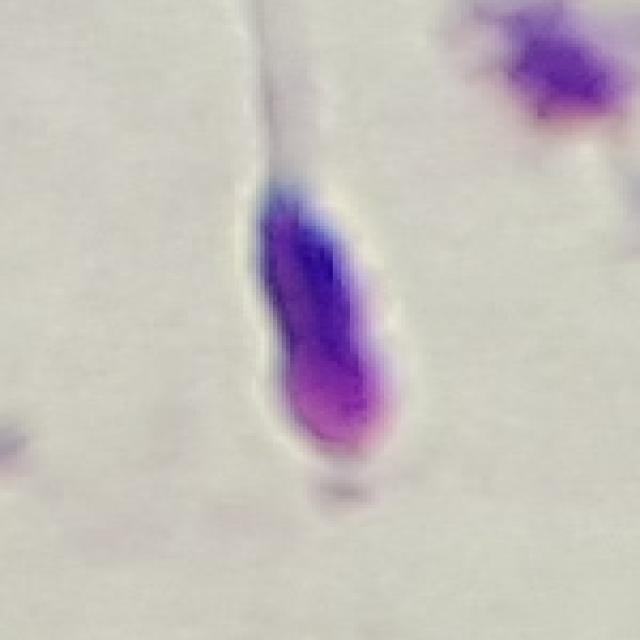abnormal sperm: (222, 15, 405, 458)
